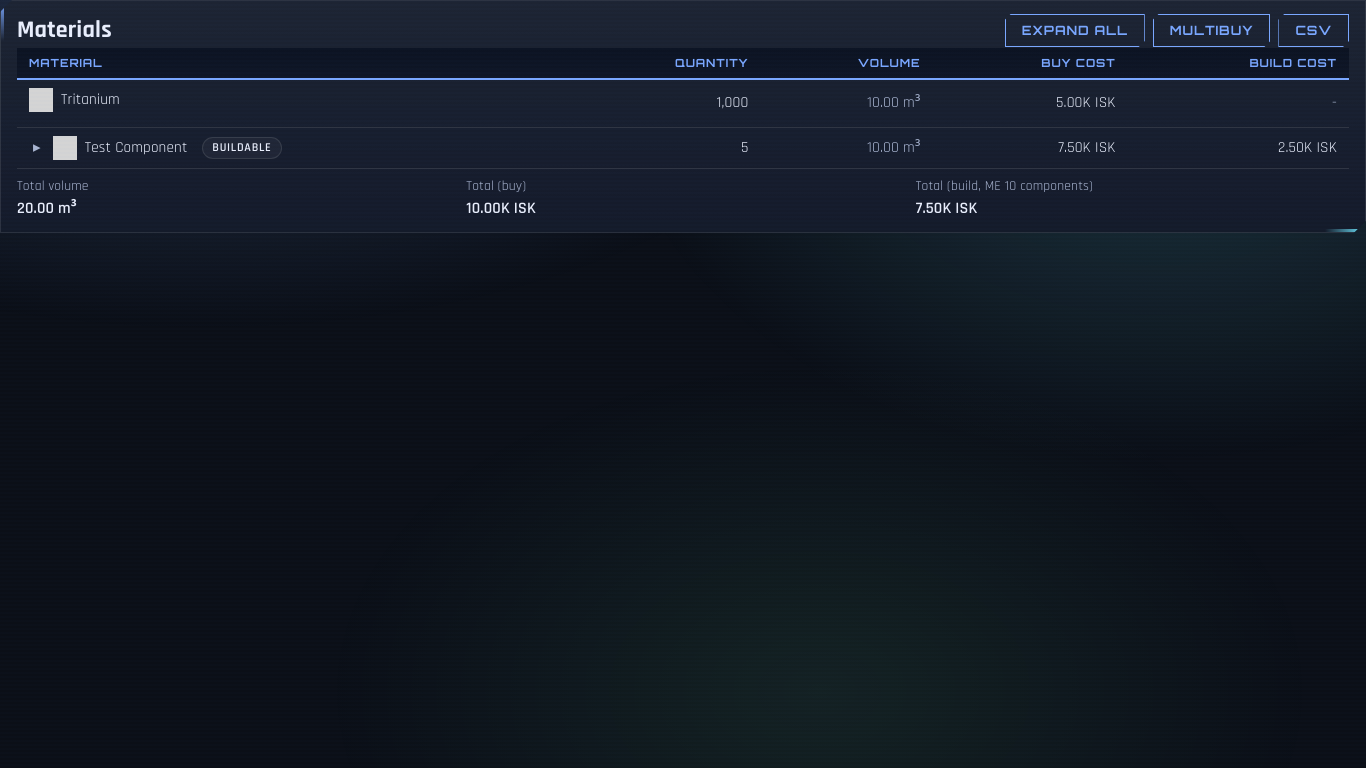
MaterialsPanel › expands a buildable component to its sub-materials
expect the text "Pyerite" is not shown: met
What coordinates should you click on to do the following:
click the button named "Show the materials of Test Component"
I would click on:
 (37, 148)
Its box is [29,137,45,159].
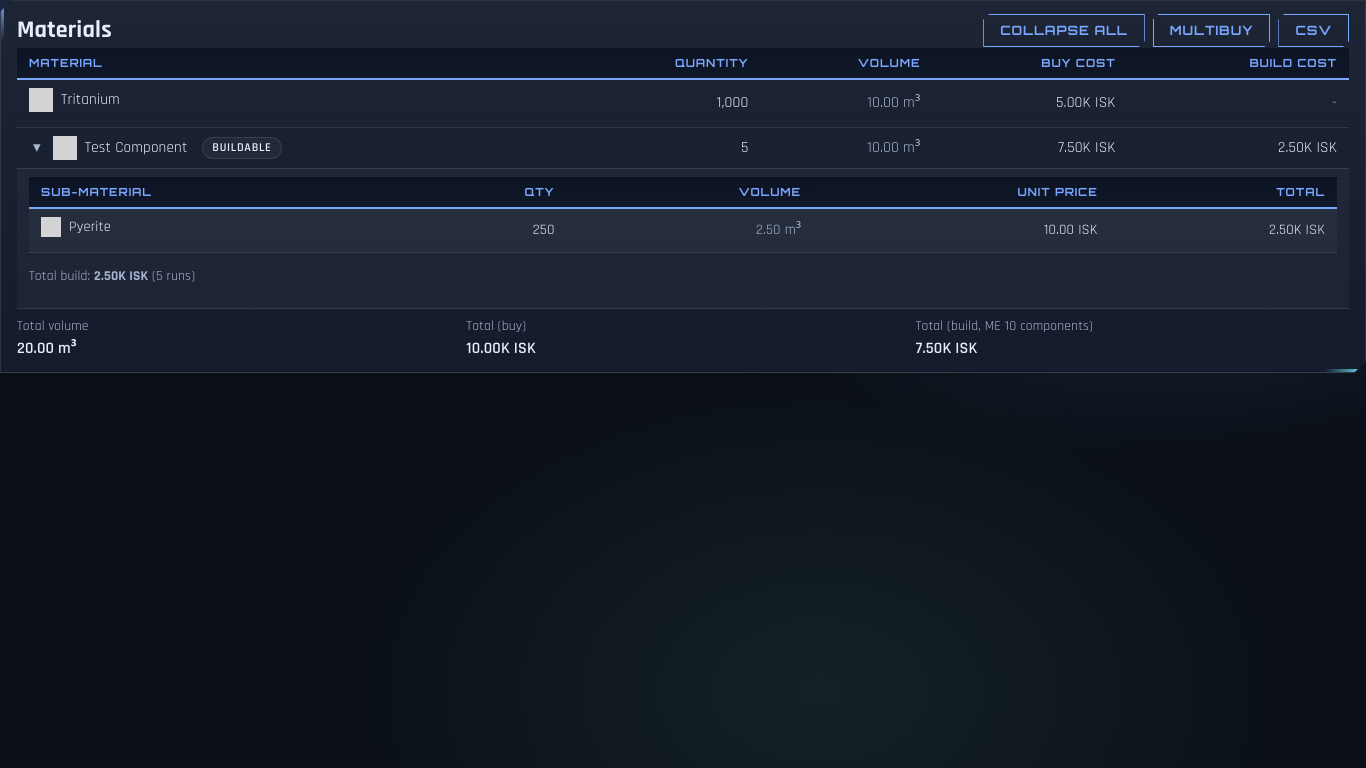
expect the text "2.50K ISK" in the row of "Pyerite" is shown: met, box [1269,221,1325,239]
What coordinates should you click on to do the following:
click the button "Collapse all"
I would click on:
 (1064, 30)
Its box is [983,14,1145,47].
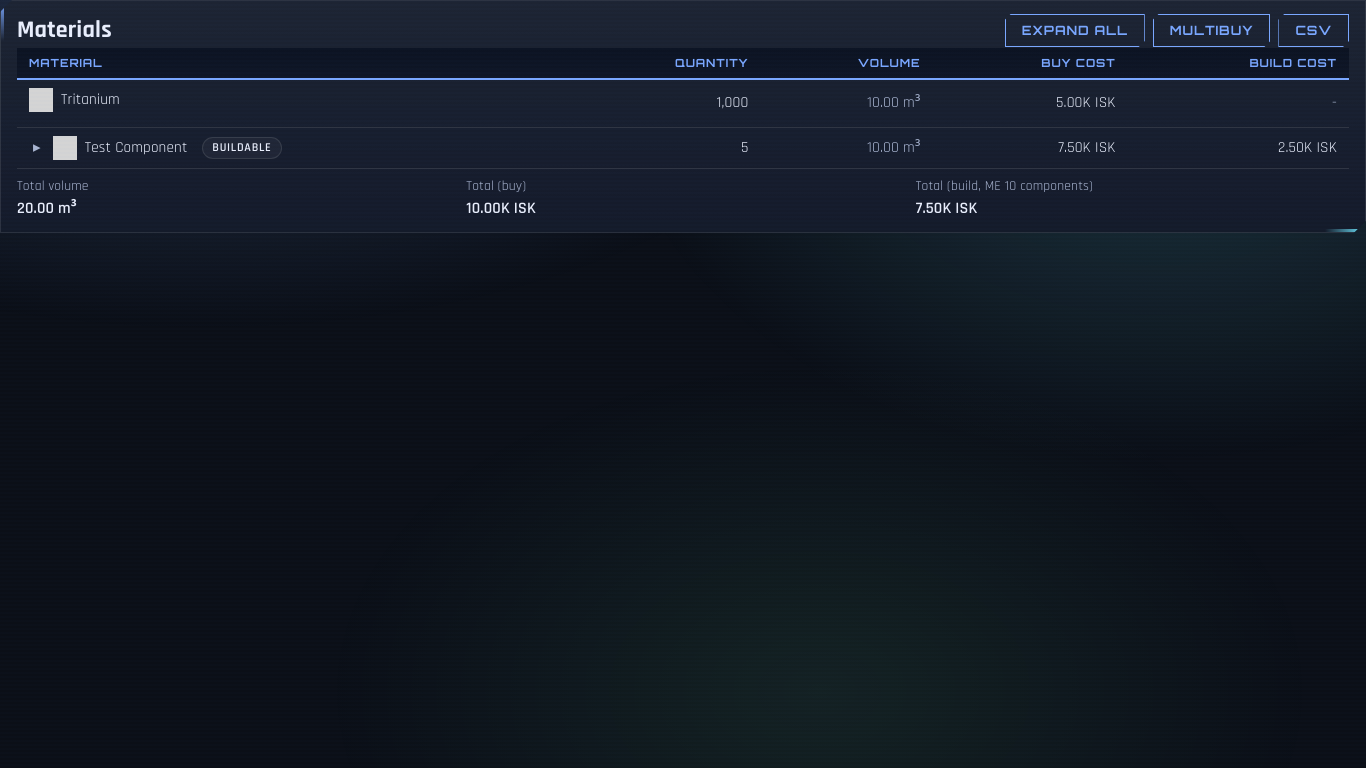
expect the text "Pyerite" is gone: met
